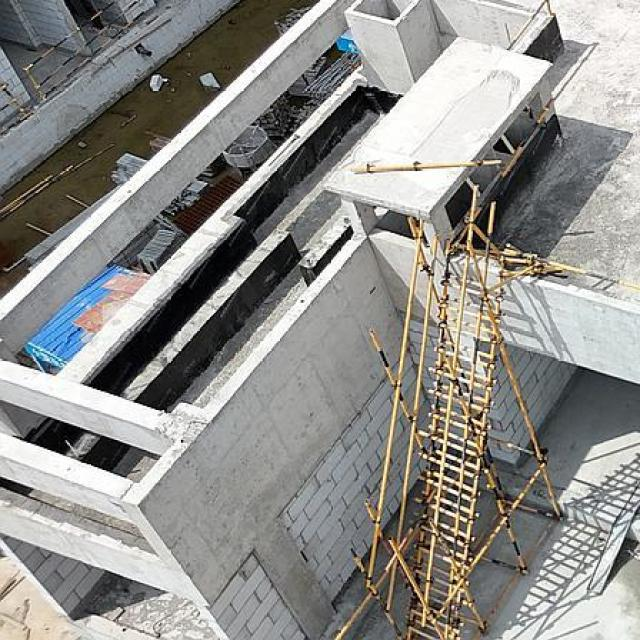edge_guardrail: (450, 106, 550, 250), (22, 0, 147, 100), (503, 249, 640, 290), (506, 0, 553, 51), (0, 81, 27, 116)
